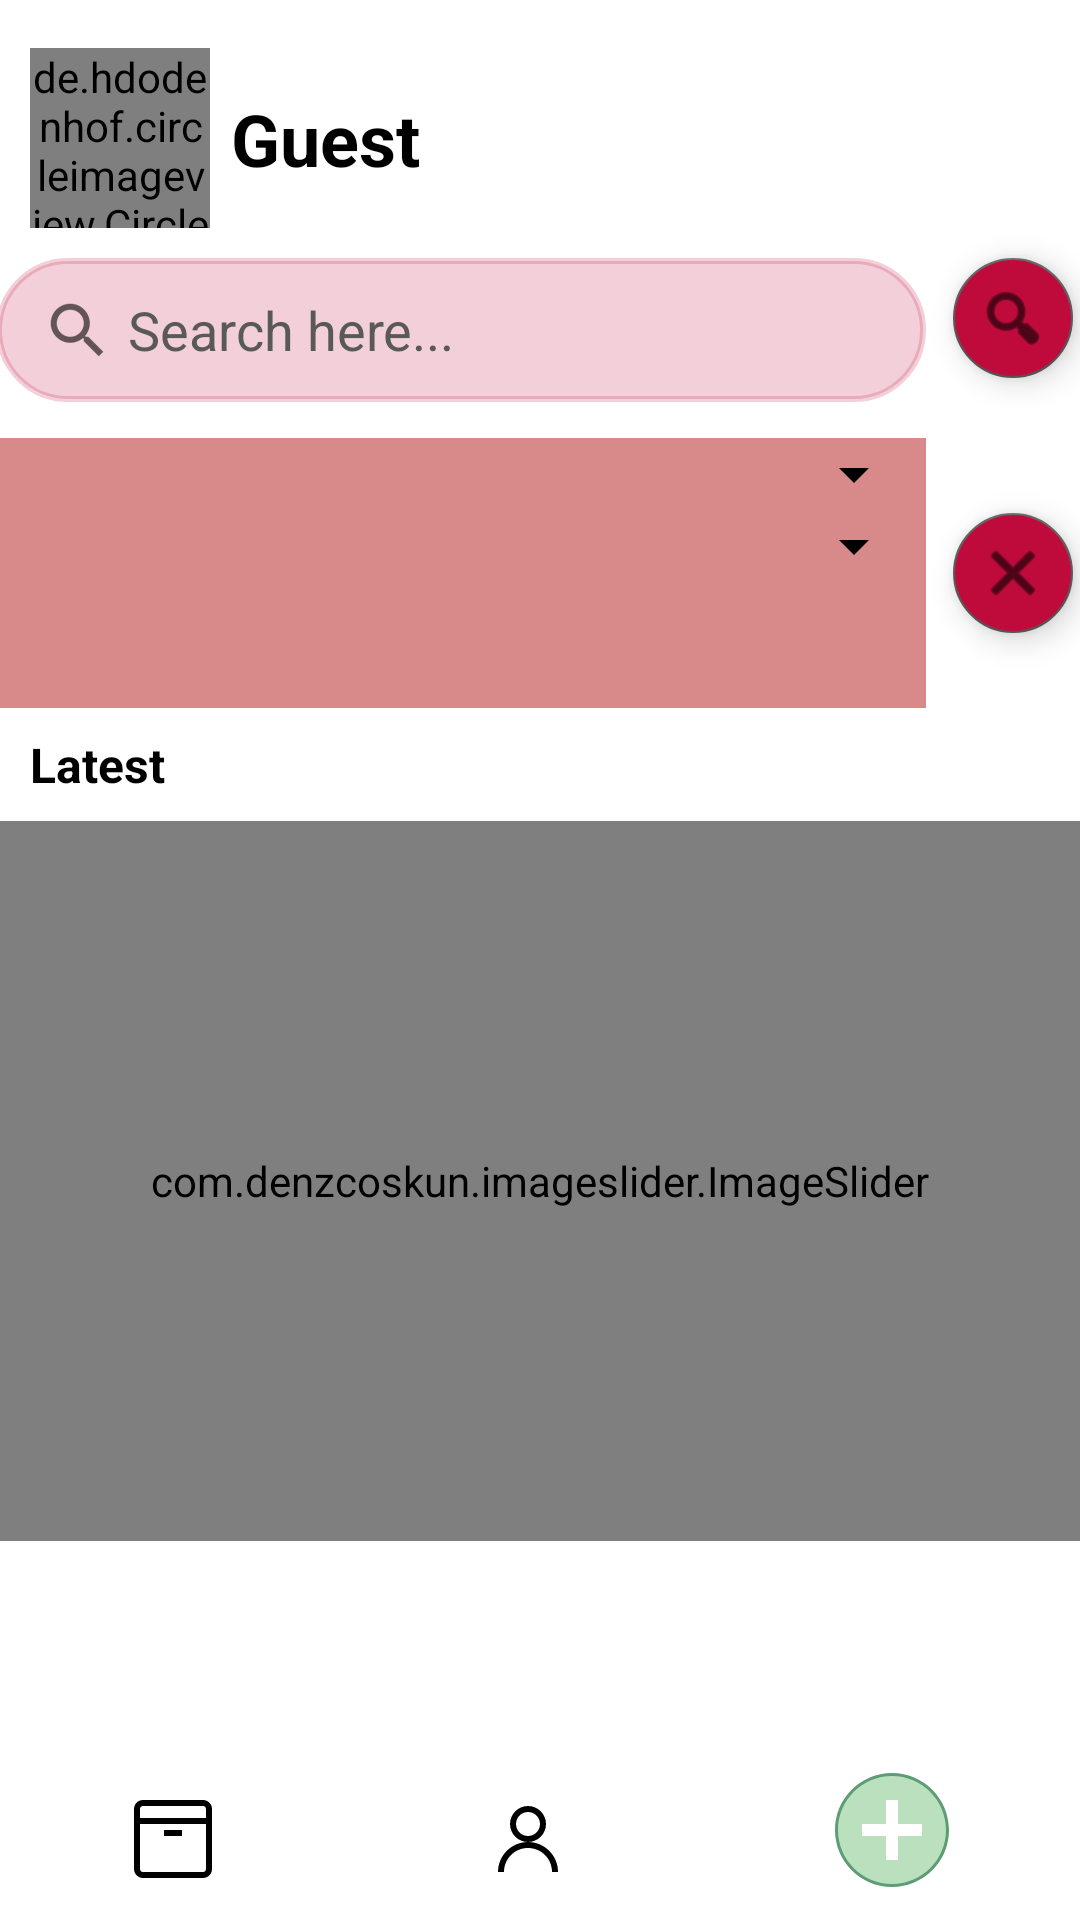

Point at icon controls on the screen. Image size 1080x1920, points as (x,y).
addplace: (892,1830)
box: (173,1839)
close clear cancel: (1014,575)
porfilesettings: (528,1839)
